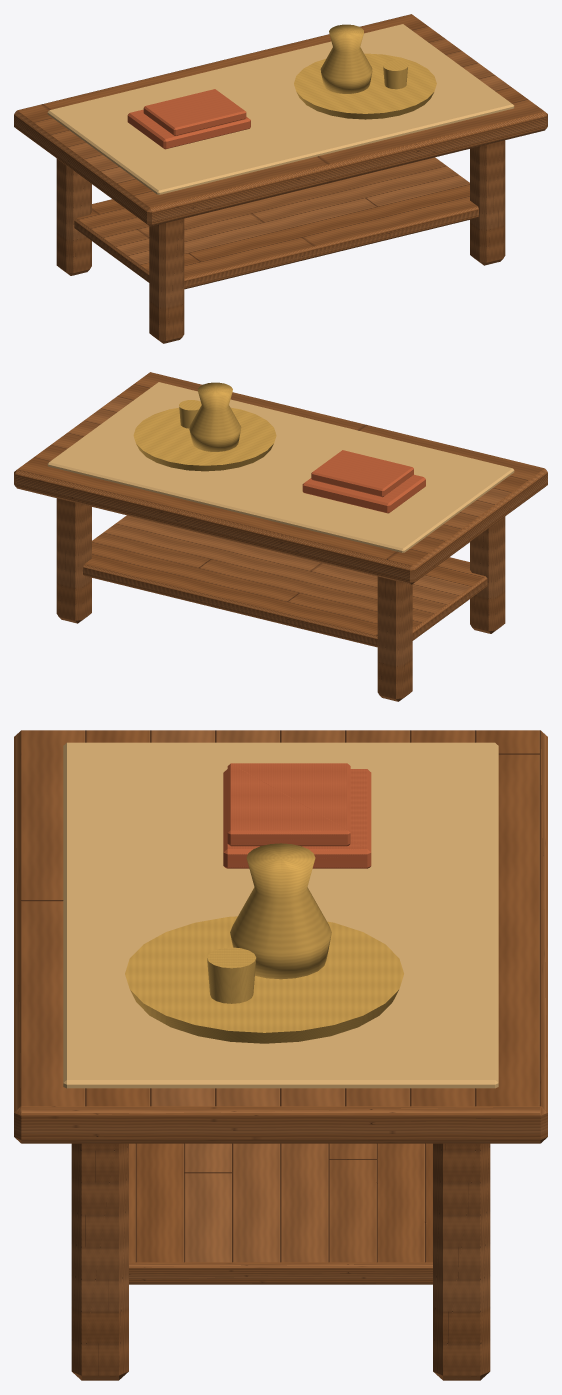
The model's file is coffee_table.glb.
3 views of the same model, one above another, from view 1: azimuth 30°, elevation 25°; view 2: azimuth 150°, elevation 25°; view 3: azimuth 270°, elevation 25° (orthographic). The views are drawn at different scales.
Parts seen in each view (by area): view 1: Table_WalnutFrameAndShelf, Table_SmokedAmberTop, Table_BrassTrayAndCarafe, Table_HabitatJournals; view 2: Table_WalnutFrameAndShelf, Table_SmokedAmberTop, Table_BrassTrayAndCarafe, Table_HabitatJournals; view 3: Table_WalnutFrameAndShelf, Table_SmokedAmberTop, Table_BrassTrayAndCarafe, Table_HabitatJournals.
Part boxes in pixels (<box>): Table_WalnutFrameAndShelf: <box>14,14,547,343</box>; Table_SmokedAmberTop: <box>47,24,514,194</box>; Table_BrassTrayAndCarafe: <box>294,24,436,119</box>; Table_HabitatJournals: <box>127,89,250,149</box>; Table_WalnutFrameAndShelf: <box>14,372,547,701</box>; Table_SmokedAmberTop: <box>47,382,514,552</box>; Table_BrassTrayAndCarafe: <box>133,382,276,471</box>; Table_HabitatJournals: <box>302,450,425,513</box>; Table_WalnutFrameAndShelf: <box>14,730,547,1380</box>; Table_SmokedAmberTop: <box>63,742,498,1088</box>; Table_BrassTrayAndCarafe: <box>125,843,403,1043</box>; Table_HabitatJournals: <box>223,763,371,868</box>.
Bounding box in the file's own units: 1.1 × 0.57 × 0.65.
4 materials, 3 textured.
